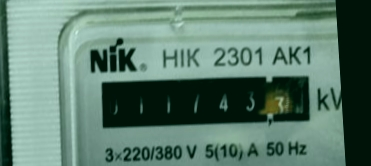0: (106, 90, 121, 117)
1: (133, 88, 148, 117), (161, 87, 175, 116)
3: (242, 86, 257, 114), (271, 94, 288, 116)
4: (216, 89, 231, 115)
7: (188, 88, 203, 114)
screen: (92, 63, 321, 141)
